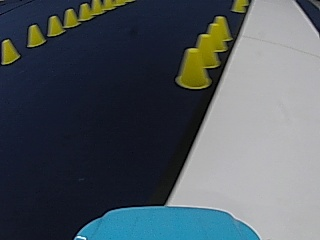cone: (175, 46, 210, 89), (193, 33, 219, 68), (206, 16, 231, 50), (1, 38, 19, 64), (26, 23, 45, 47), (47, 15, 63, 36), (63, 8, 78, 27), (78, 3, 91, 20), (231, 0, 245, 12), (91, 0, 101, 15)
